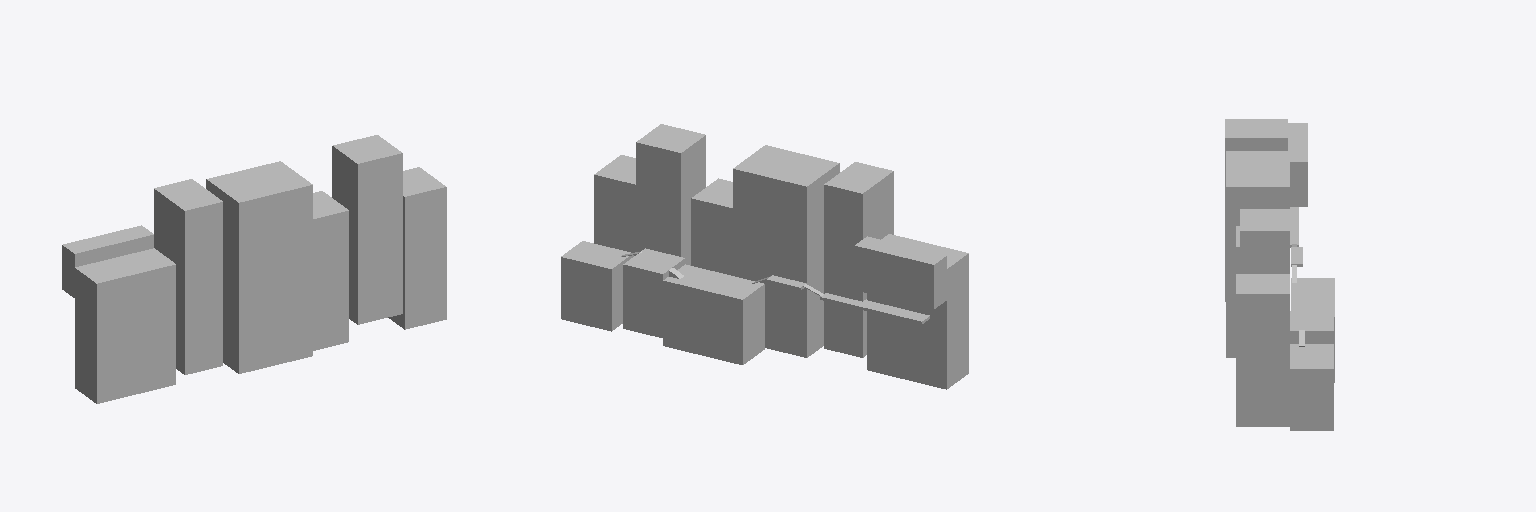
Rendered from street1Root.obj.
The picture shows the model from 3 angles: view 1: azimuth 30°, elevation 25°; view 2: azimuth 150°, elevation 25°; view 3: azimuth 270°, elevation 25°; orthographic projection.
Visible parts, largest first — view 1: street1Root; view 2: street1Root; view 3: street1Root.
Boxes of the visible parts, box(x1,y1,x2,y2) form: street1Root: box(62, 135, 446, 403); street1Root: box(561, 124, 968, 389); street1Root: box(1225, 119, 1334, 430).
Size of the model in its own units: 139 by 65.58 by 36.54.